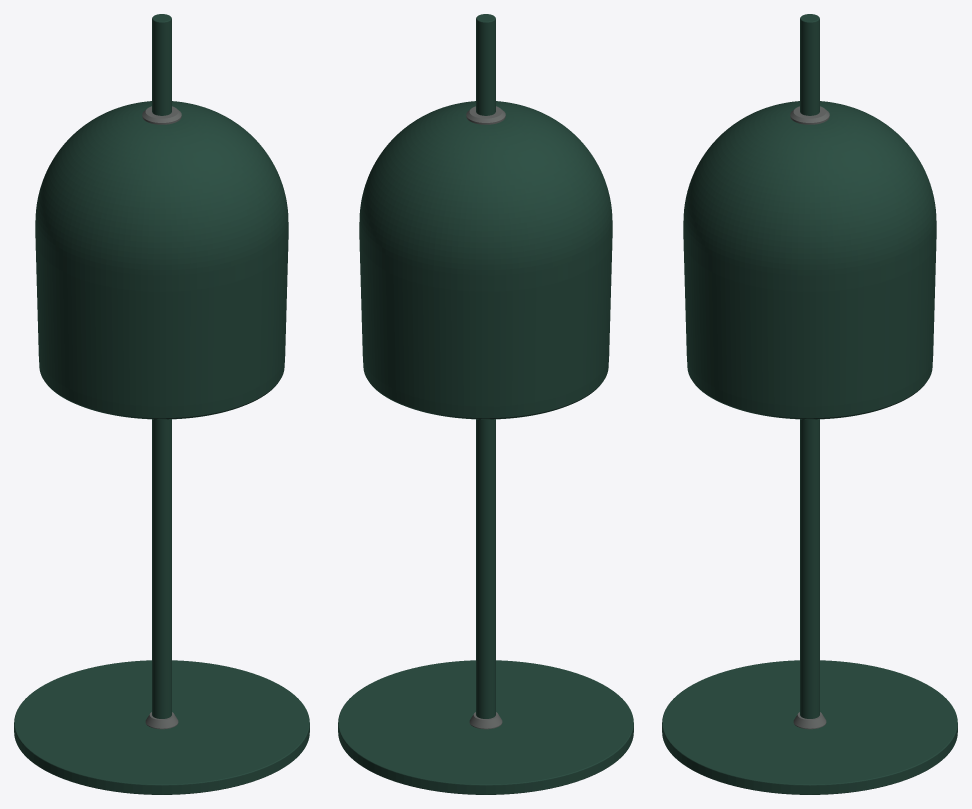
The picture shows the model from 3 angles, left to right: view 1: azimuth 30°, elevation 25°; view 2: azimuth 150°, elevation 25°; view 3: azimuth 270°, elevation 25°; orthographic projection.
Parts seen in each view (by area): view 1: visual_part_001_0_3, visual_part_000_0_1; view 2: visual_part_001_0_3, visual_part_000_0_1; view 3: visual_part_001_0_3, visual_part_000_0_1.
Part boxes in pixels (x1,y1,x2,y2): visual_part_001_0_3: (35,101,288,419); visual_part_000_0_1: (14,14,309,794); visual_part_001_0_3: (359,101,612,419); visual_part_000_0_1: (338,14,633,794); visual_part_001_0_3: (683,101,936,419); visual_part_000_0_1: (662,14,957,794).
Size of the model in its own units: 0.18 by 0.48 by 0.18.
